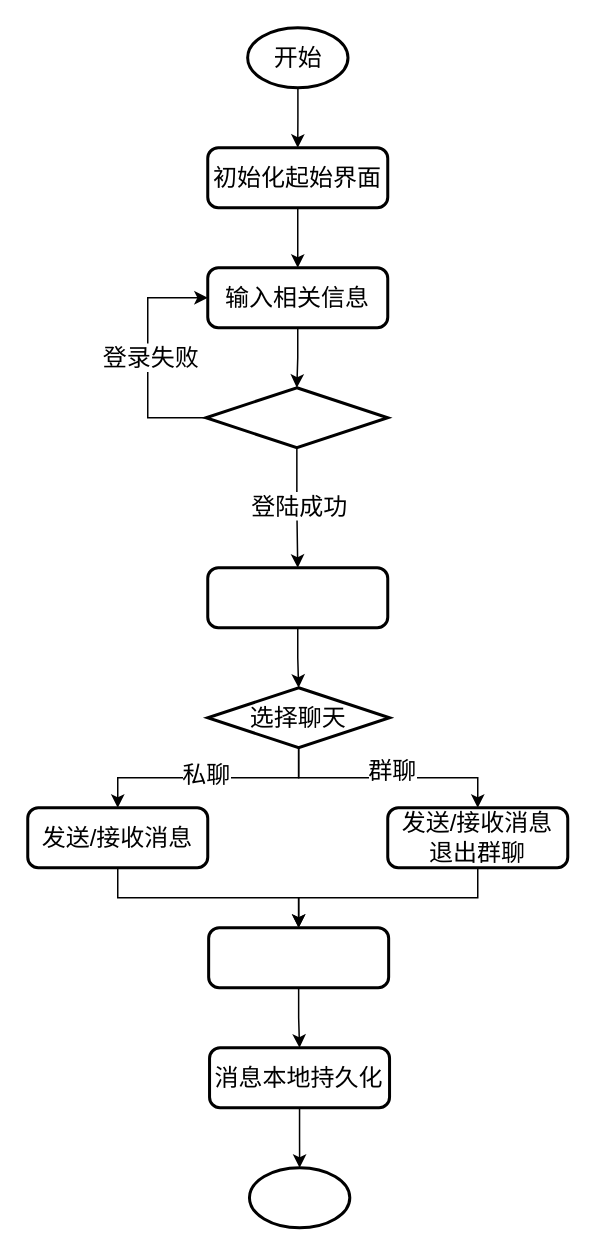
Image size: 594x1254. Some labels were removed from this diagram. Here are the shapes that lost their labels. From the top down, the centre of each, then its label:
At (296,417): "登录".
At (297,597): "关闭起始界面 打开聊天界面".
At (297,957): "退出".
At (299,1197): "结束".
